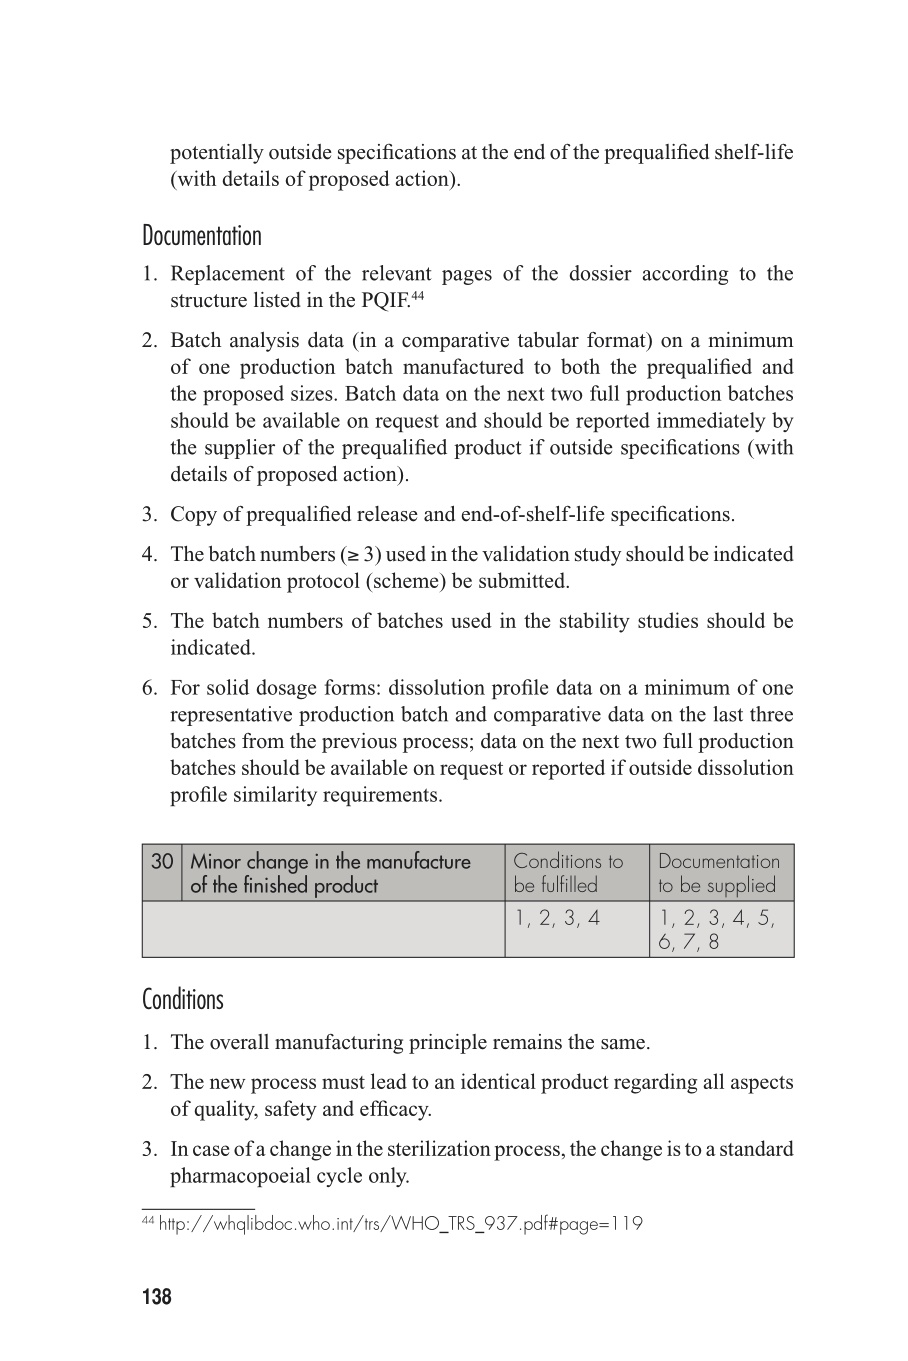merged_cells: (140, 843, 794, 959)
